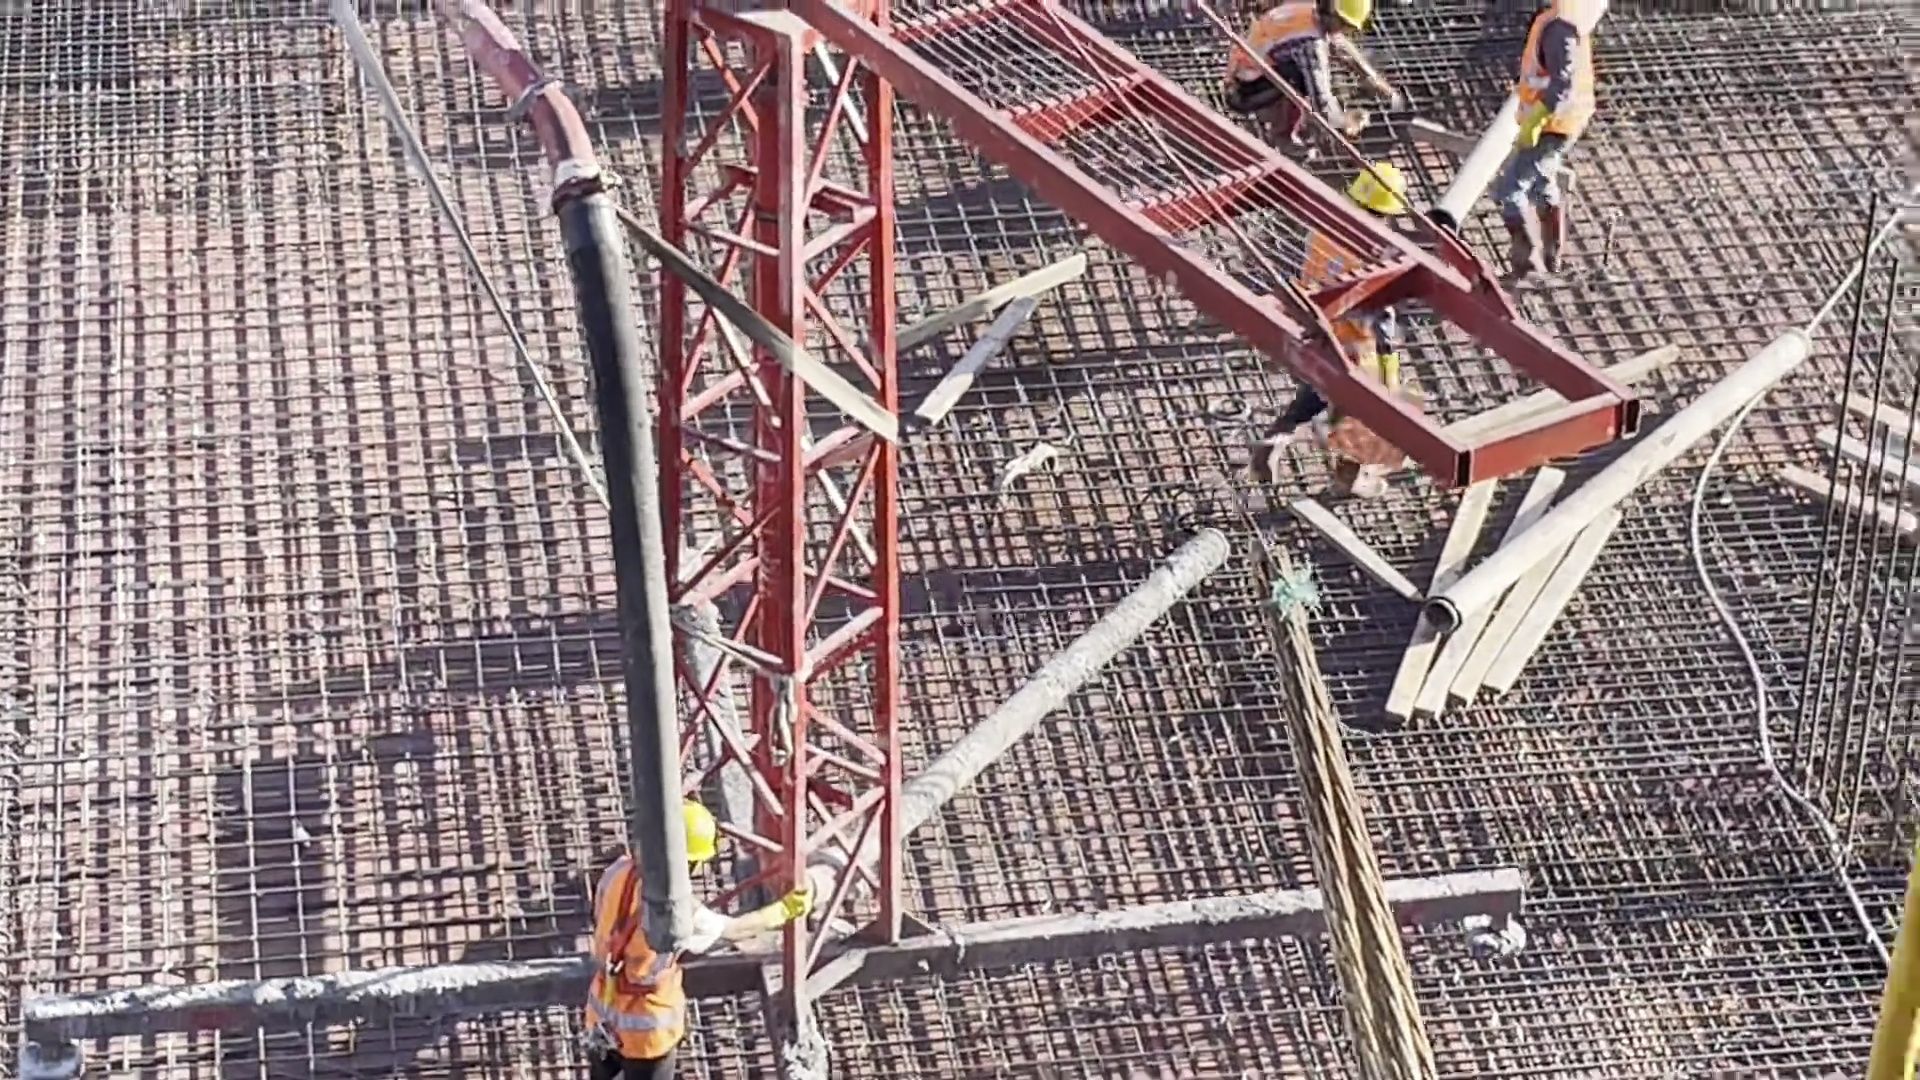helmet: (1357, 165, 1404, 219), (681, 806, 716, 864), (1323, 1, 1366, 33)
person: (1247, 152, 1437, 517), (582, 789, 805, 1079), (1481, 1, 1590, 288), (1221, 1, 1410, 156)
vest: (584, 858, 671, 1050), (1293, 227, 1386, 368), (1508, 17, 1588, 138), (1220, 8, 1323, 90)
